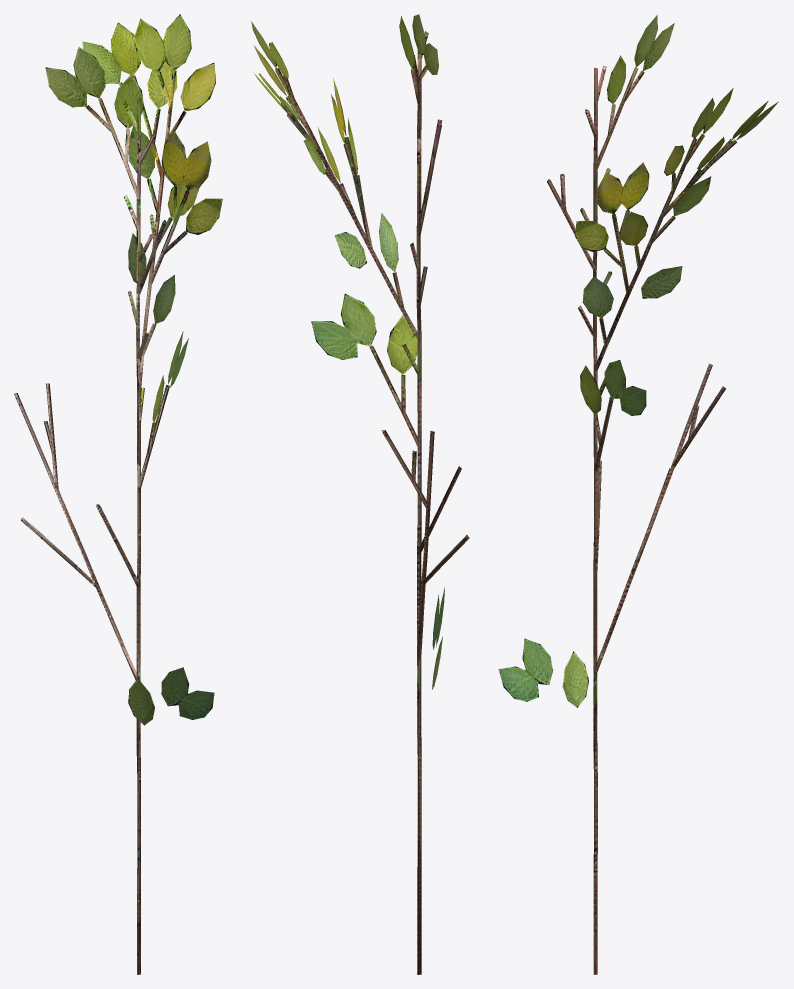
File: parcFloorLeefFlour.glb
3 views of the same model, side by side, from view 1: azimuth 30°, elevation 25°; view 2: azimuth 150°, elevation 25°; view 3: azimuth 270°, elevation 25° (orthographic). The views are drawn at different scales.
Visible parts, largest first — view 1: Mesh_0.001; view 2: Mesh_0.001; view 3: Mesh_0.001.
Part boxes in pixels (x1,y1,x2,y2): Mesh_0.001: [14, 14, 222, 974]; Mesh_0.001: [251, 14, 469, 974]; Mesh_0.001: [498, 14, 778, 974].
Bounding box in the file's own units: 0.6338 × 2.82 × 0.7595.
Materials: 1 (1 with a texture image).
